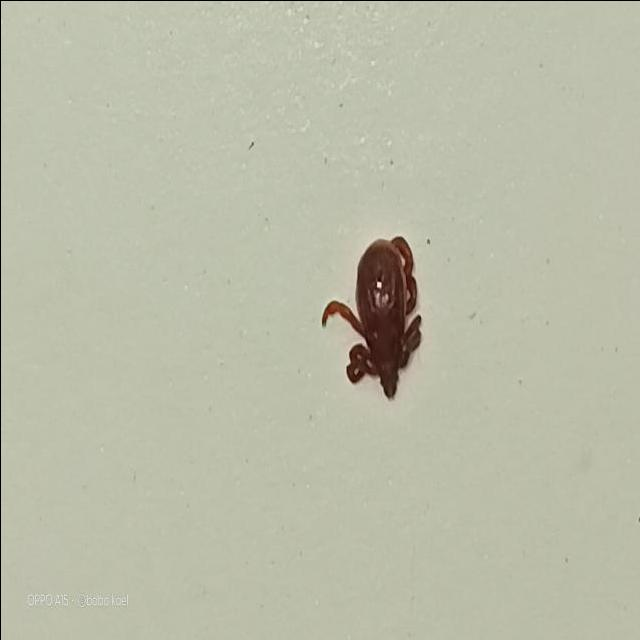Rhipicephalus Sanguineus-M: (323, 236, 422, 401)
